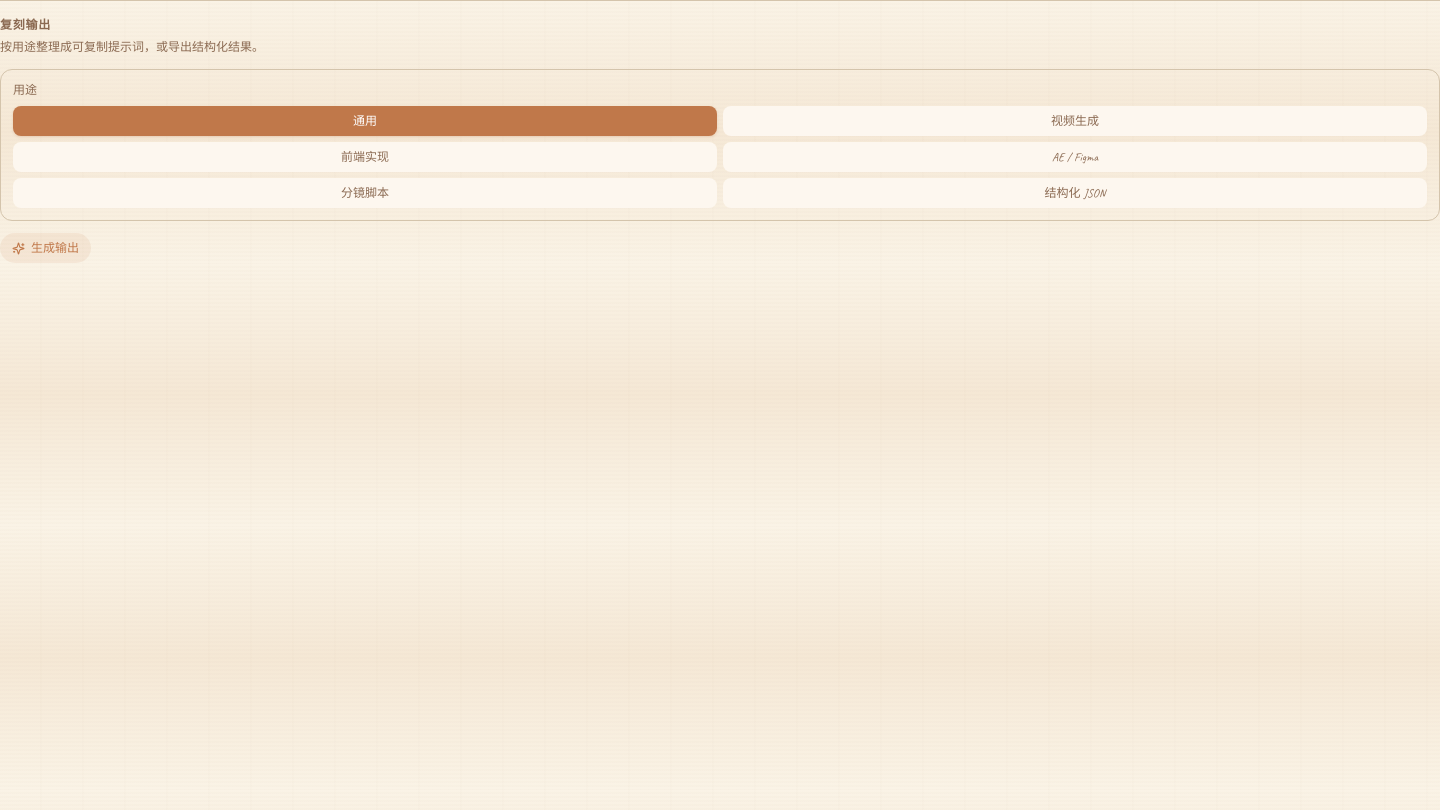
it: VideoPromptPanel › shows generate button when no existing prompt
The image size is (1440, 810).
Click the button "生成输出".
click(46, 248)  # box x1=0 y1=233 x2=91 y2=263
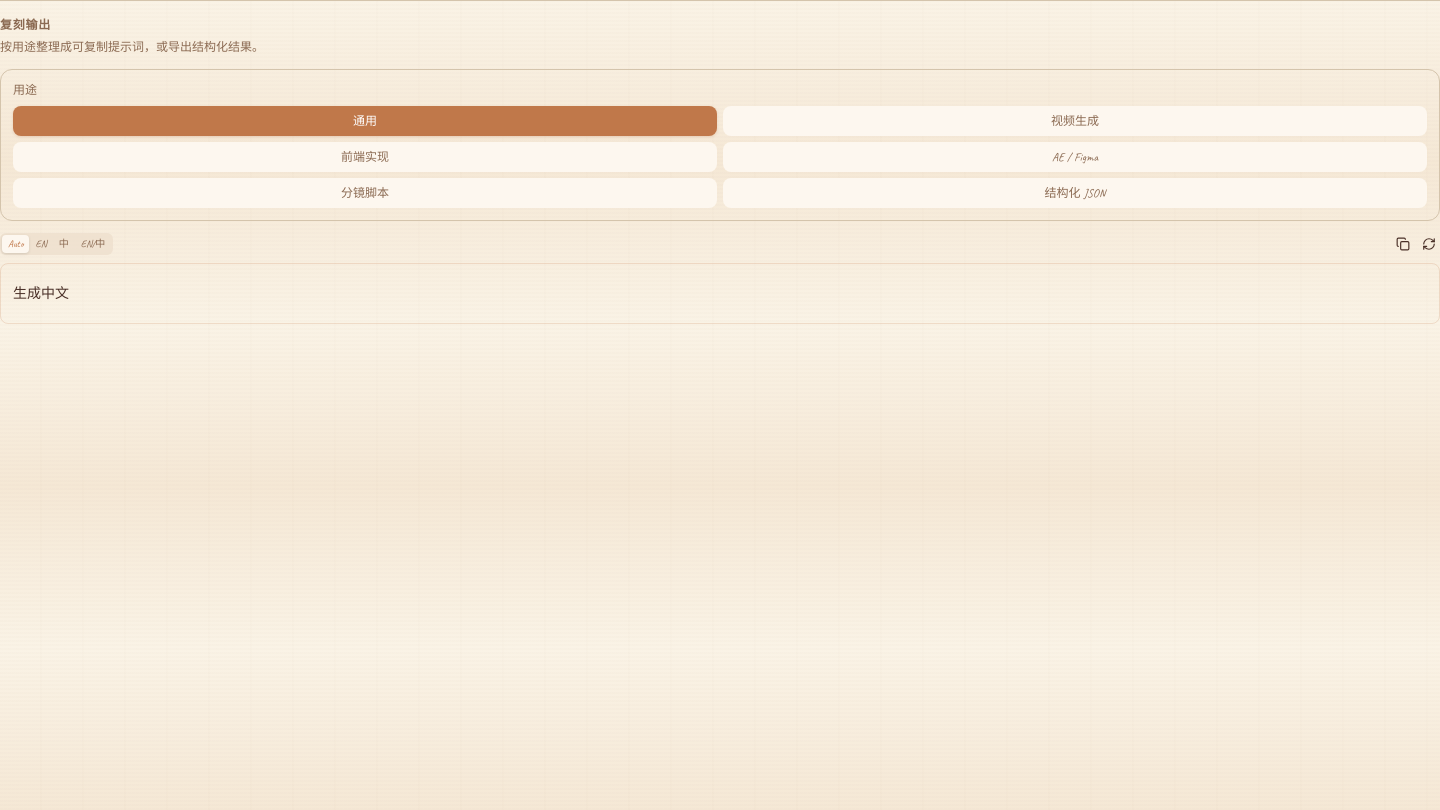
Result: the text "生成中文" is shown at x1=13 y1=285 x2=69 y2=302
